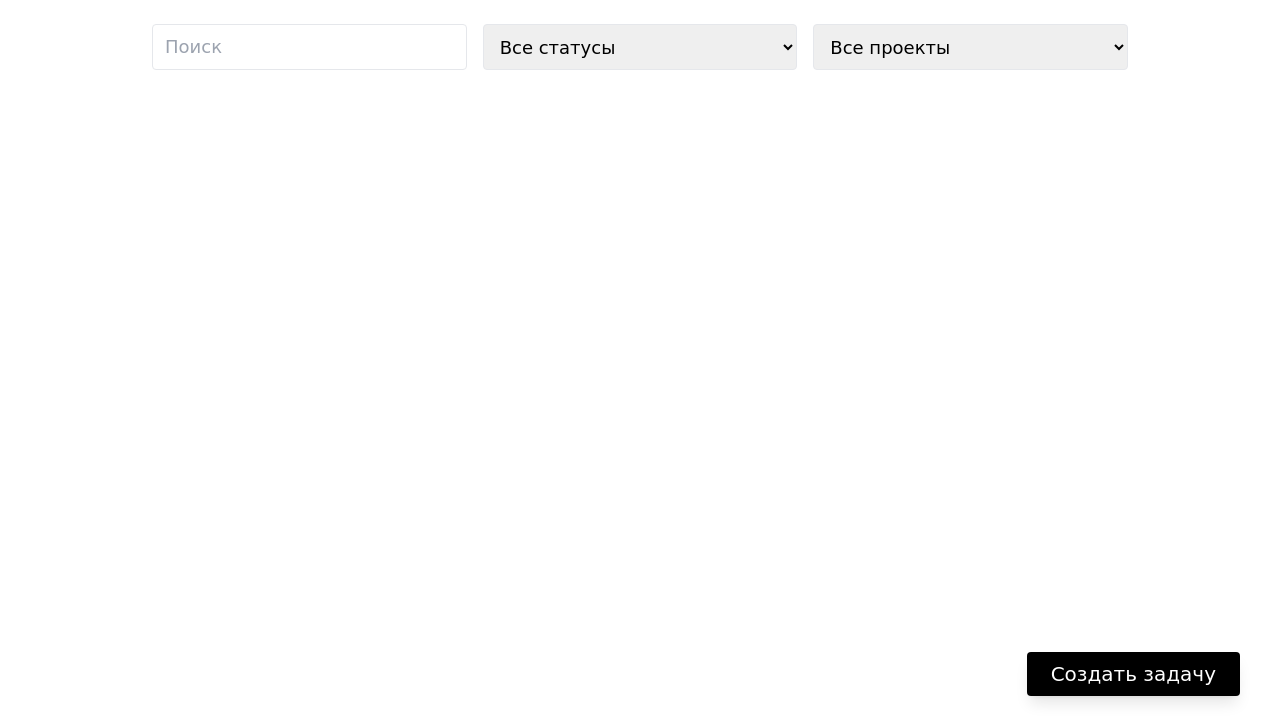
IssuesPage › открывает форму при клике на кнопку создания задачи
// кликаем по кнопке "Создать задачу"
Click the button labelled "Создать задачу": [1133, 674] box [1027,652,1240,696]
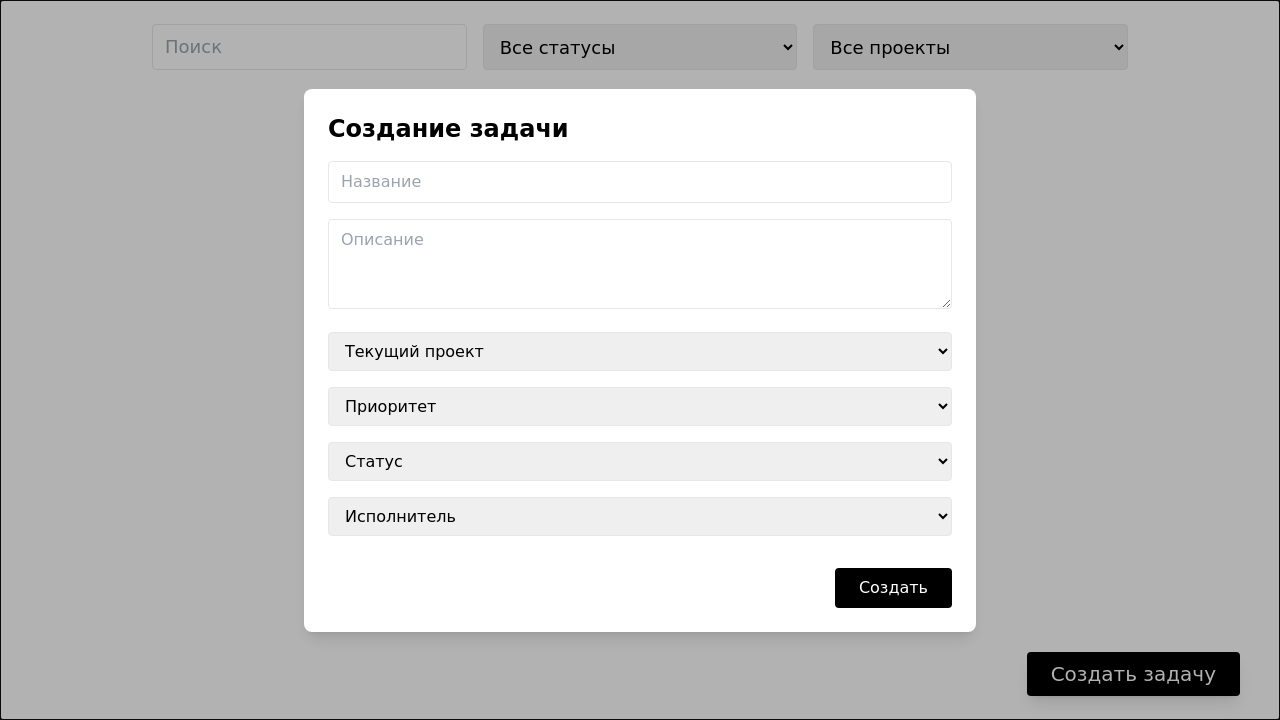
Now the heading "Создание задачи" is shown, box [328,114,569,142]
